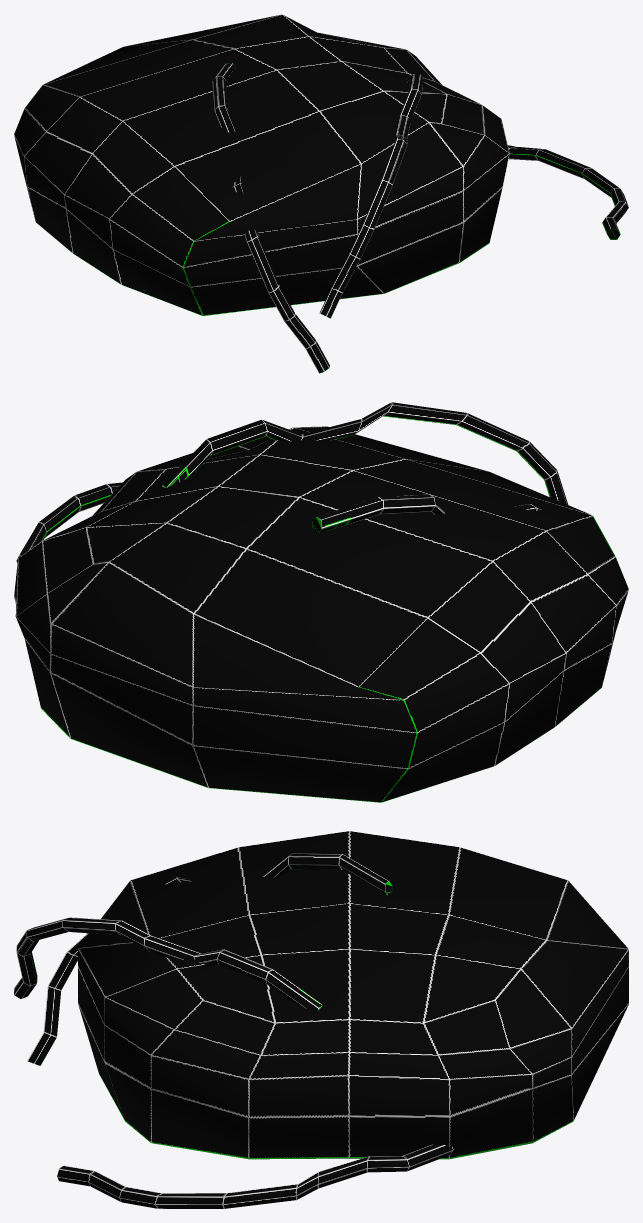
File: asset_ingredient_pasta_state2.FBX
The picture shows the model from 3 angles, top to bottom: view 1: azimuth 30°, elevation 25°; view 2: azimuth 150°, elevation 25°; view 3: azimuth 270°, elevation 25°; orthographic projection. The views are drawn at different scales.
Visible parts, largest first — view 1: Box011, Object003, Object001, Object002; view 2: Box011, Object003, Object001, Object002; view 3: Box011, Object002, Object003, Object001.
Part boxes in pixels (x1,y1,x2,y2): Box011: (14,14,509,315); Object003: (319,74,423,318); Object001: (212,63,329,373); Object002: (508,145,628,239); Box011: (14,426,628,802); Object003: (162,402,568,504); Object001: (312,494,541,532); Object002: (16,482,122,562); Box011: (78,831,628,1159); Object002: (57,1144,454,1208); Object003: (14,917,322,1010); Object001: (27,853,392,1065).
Bounding box in the file's own units: 11.5 × 4.46 × 10.97.
